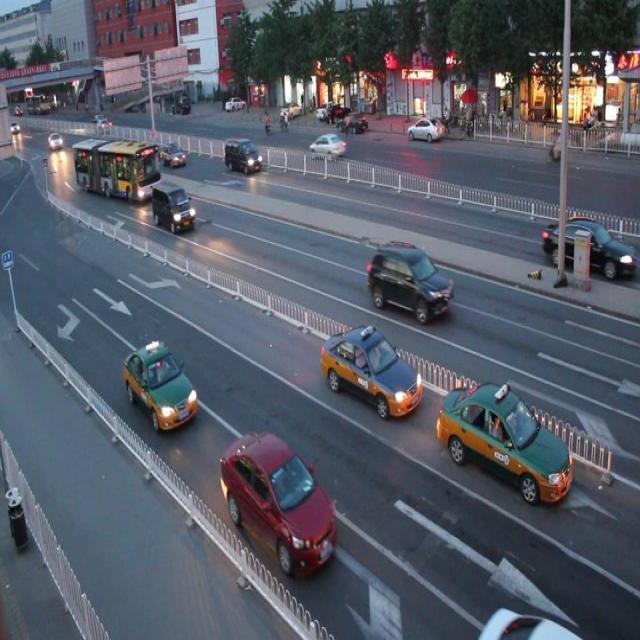car: (218, 430, 336, 578), (437, 378, 571, 503), (319, 325, 422, 417), (367, 238, 452, 320), (124, 340, 198, 430), (540, 218, 640, 280), (476, 602, 582, 640), (309, 131, 345, 162)
truck: (153, 182, 194, 234), (223, 134, 262, 175)
